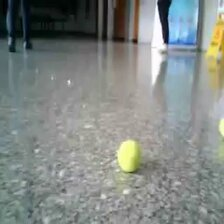tennis: (117, 140, 142, 171)
